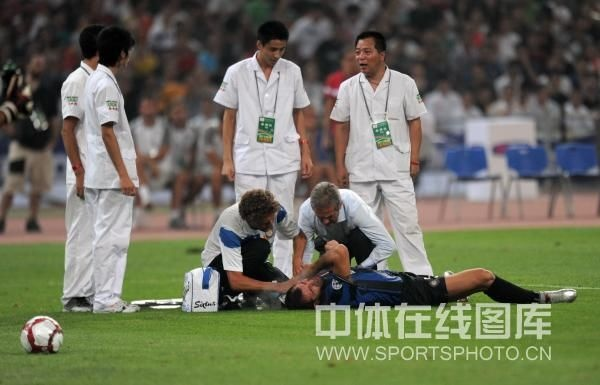falling: (270, 247, 576, 311)
